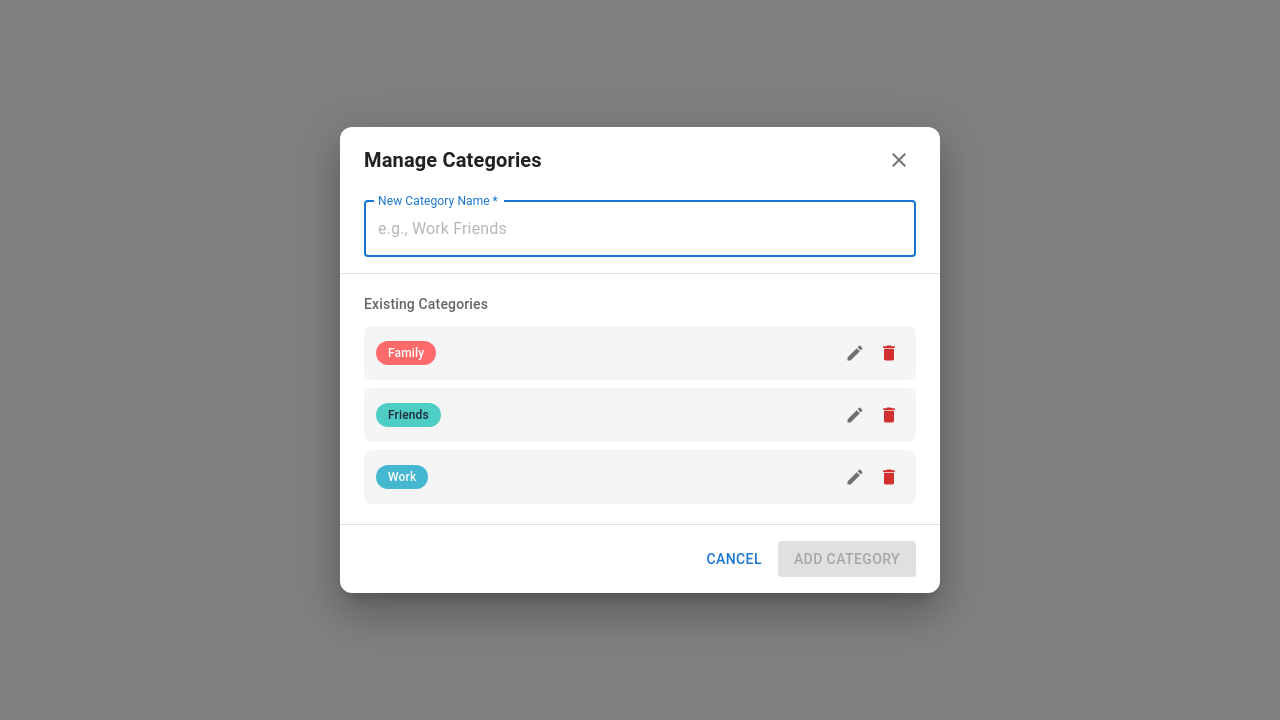
Scenario: AddCategoryModal › shows duplicate error when entering existing category name
The image size is (1280, 720).
Type "Family" into the field labelled "New Category Name *". click: (640, 229)
box: [364,201,916,257]
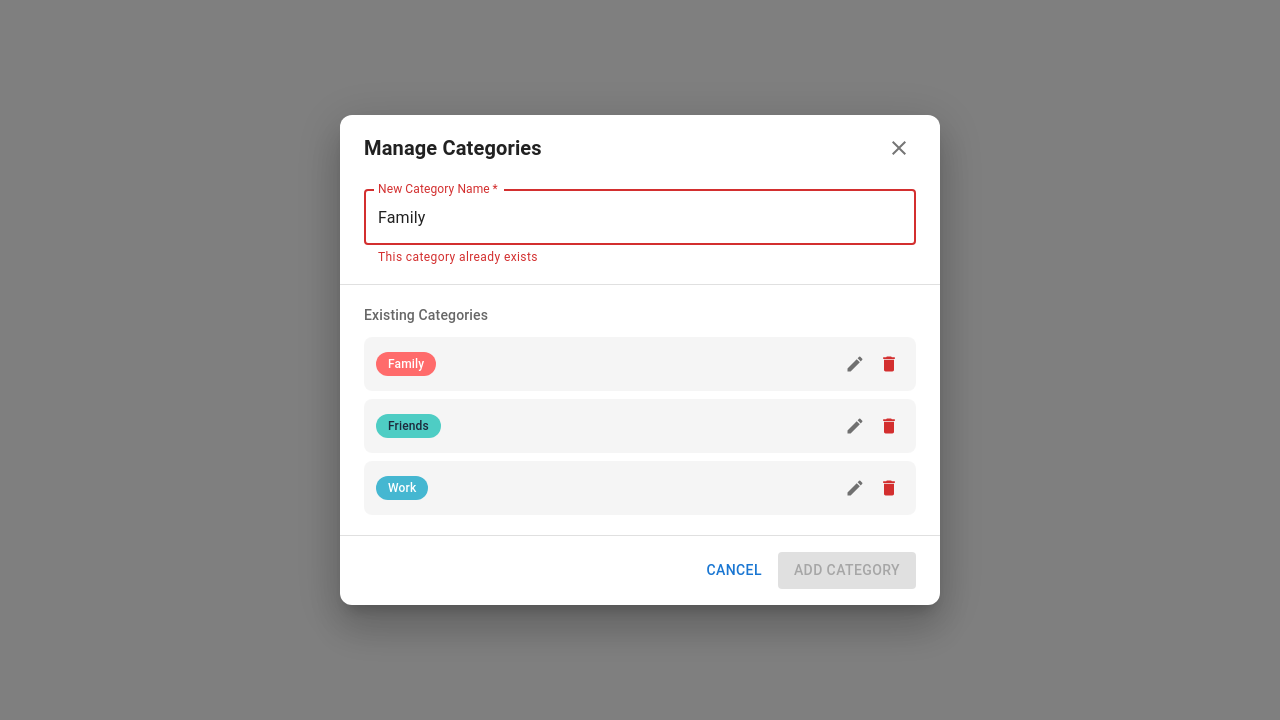
Expected: the text "This category already exists" is shown, [378,250,538,264]
